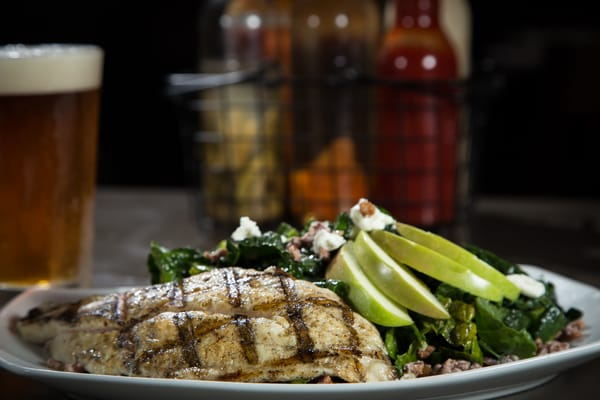pizza: (0, 41, 106, 289)
